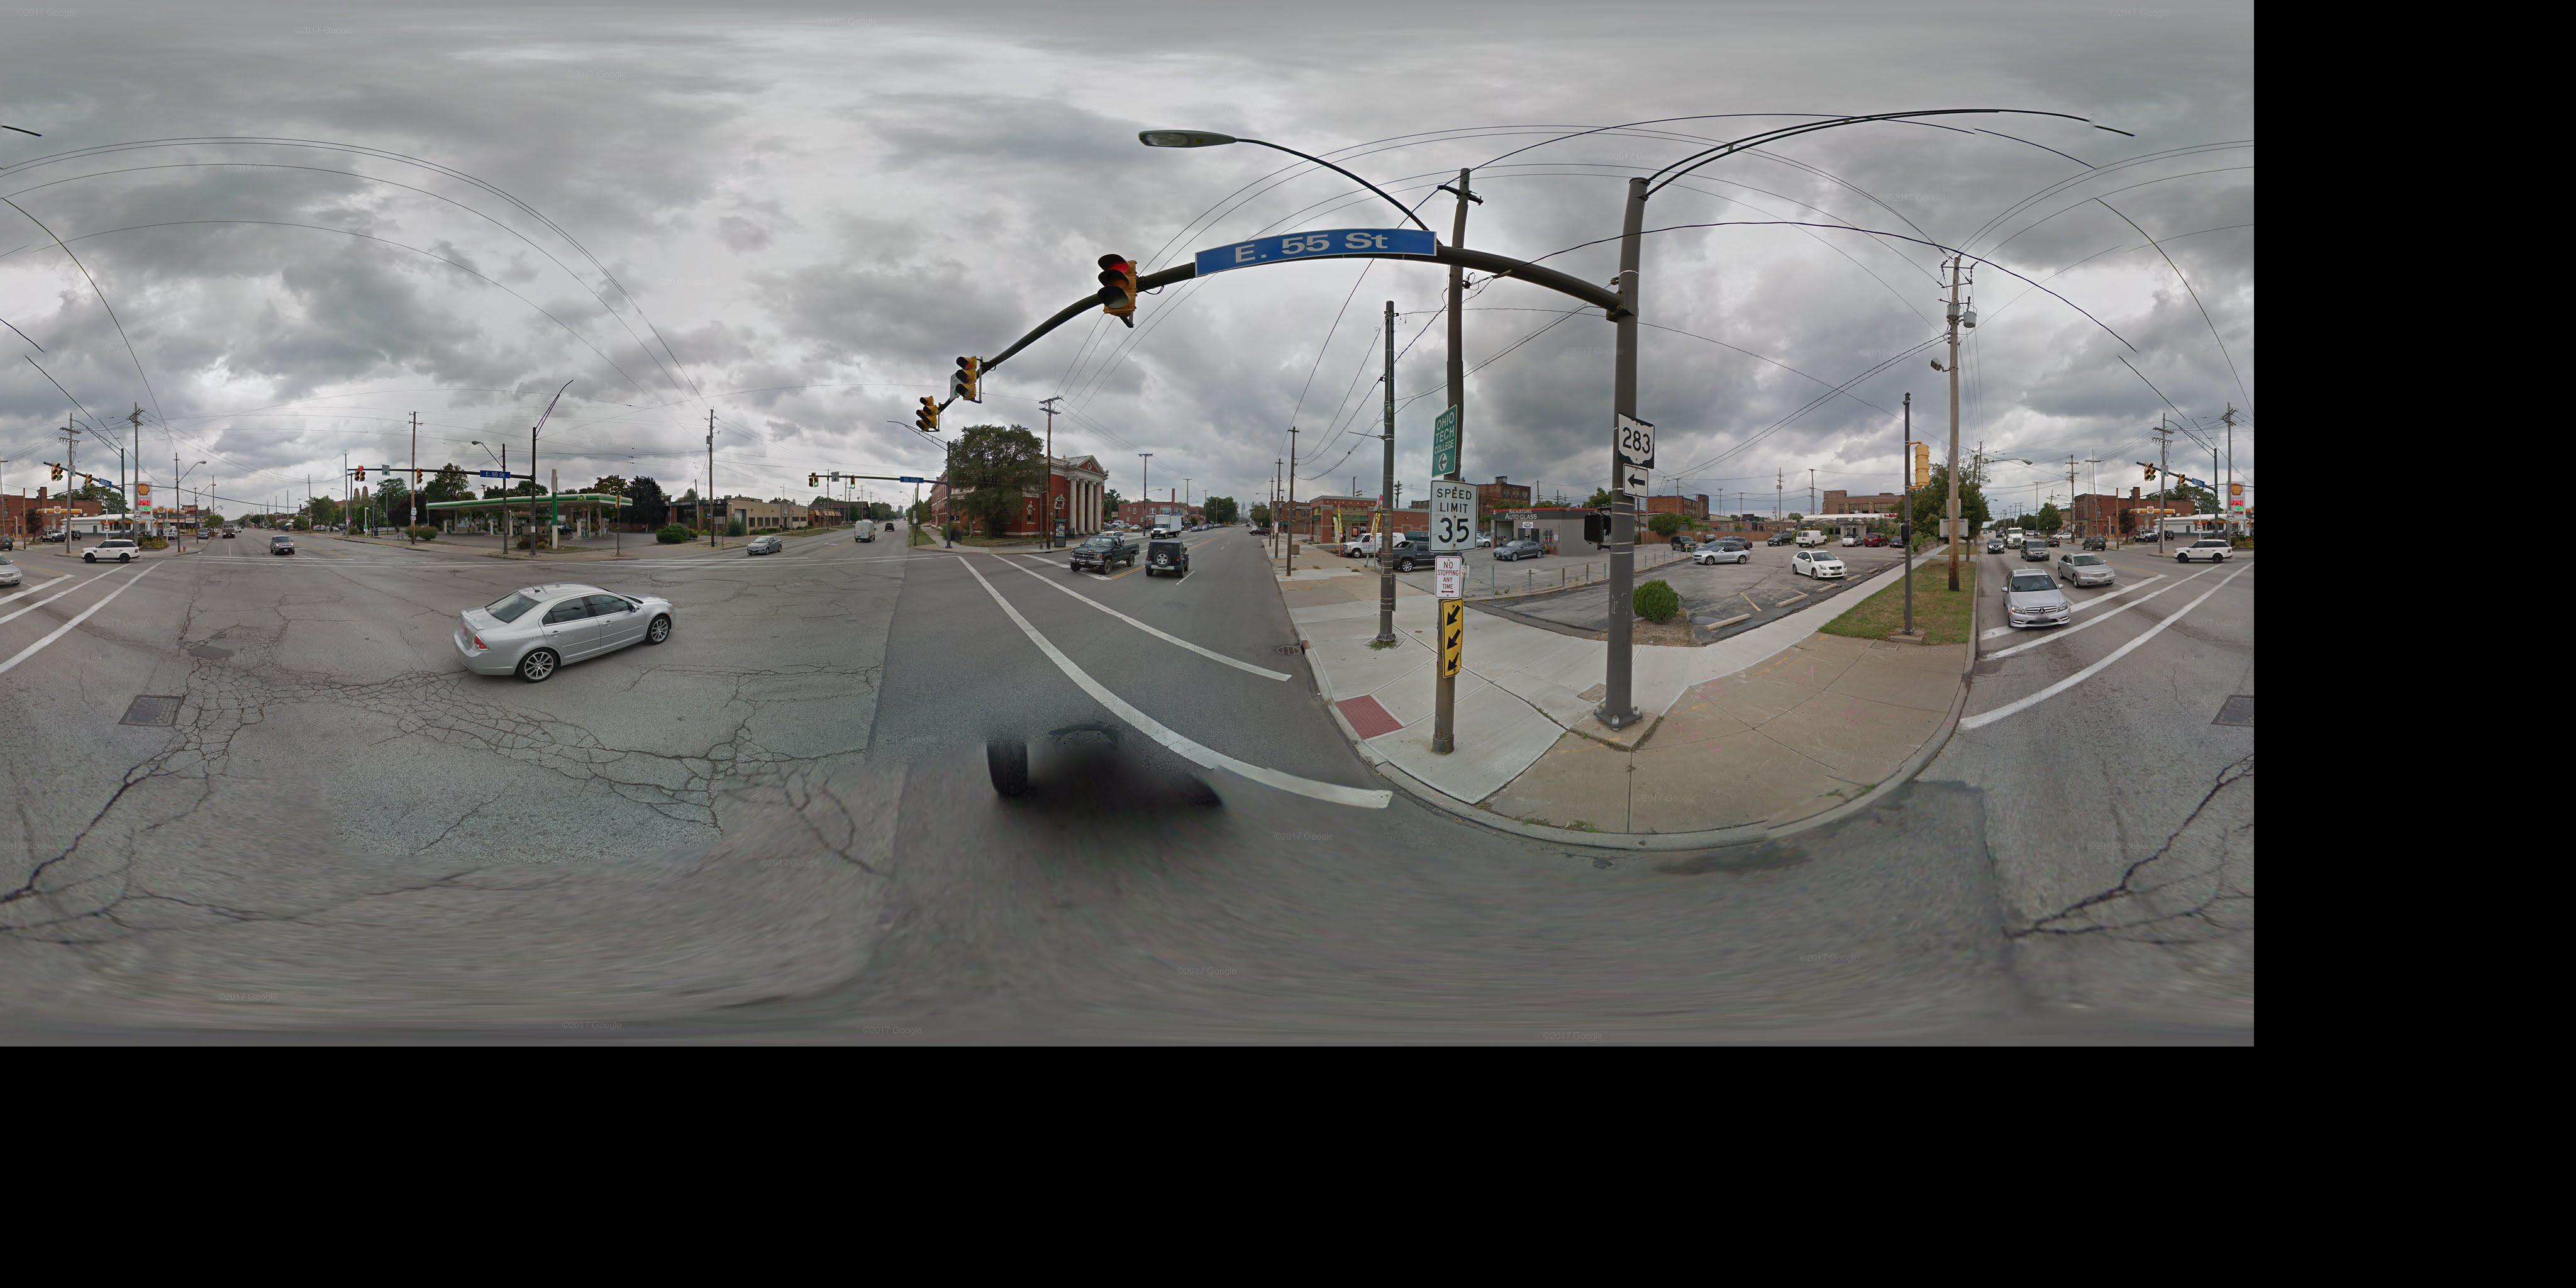Curb Ramp: (1296, 654, 1416, 762), (536, 550, 601, 565), (140, 550, 176, 563), (963, 545, 989, 559)
